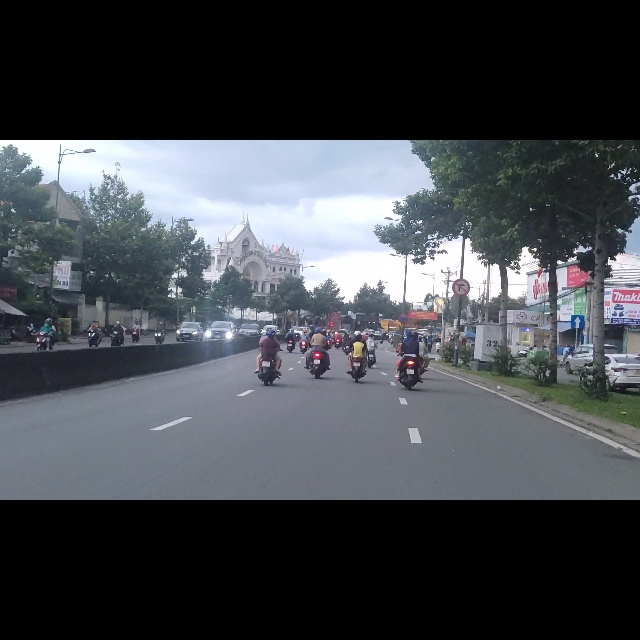bien_cam: (452, 247, 470, 279)
